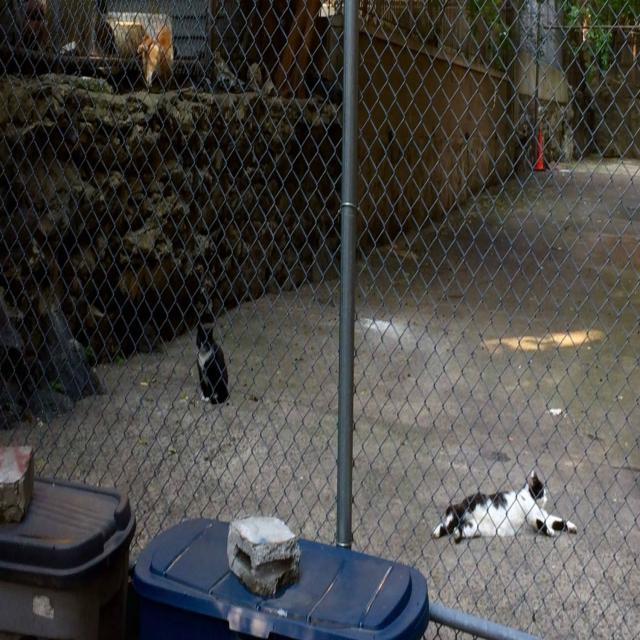cat: (432, 471, 576, 542), (196, 313, 229, 404)
